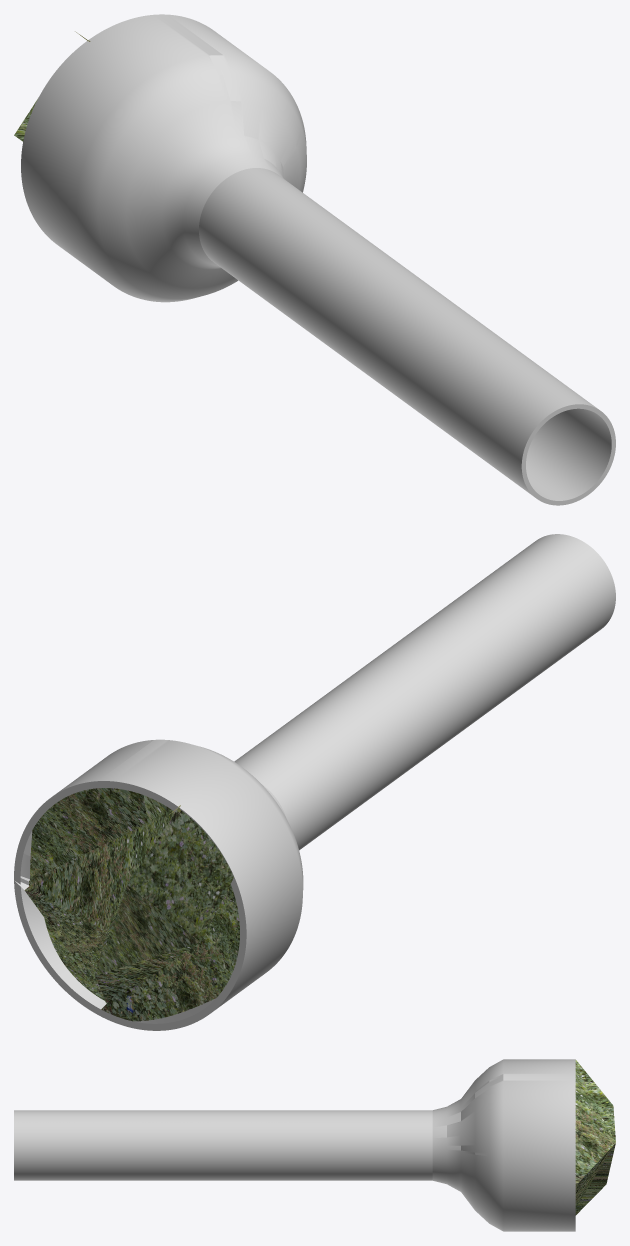
Rendered from lufka.glb.
3 views of the same model, one above another, from view 1: azimuth 30°, elevation 25°; view 2: azimuth 150°, elevation 25°; view 3: azimuth 270°, elevation 25° (orthographic). The views are drawn at different scales.
Visible parts, largest first — view 1: Circle; view 2: Circle; view 3: Circle.
Part boxes in pixels (box(x1,y1,x2,y2)): Circle: box(14, 14, 615, 505); Circle: box(14, 534, 615, 1030); Circle: box(14, 1059, 615, 1231).
Bounding box in the file's own units: 4.88 × 4.88 × 17.06.
Materials: 2 (1 with a texture image).
